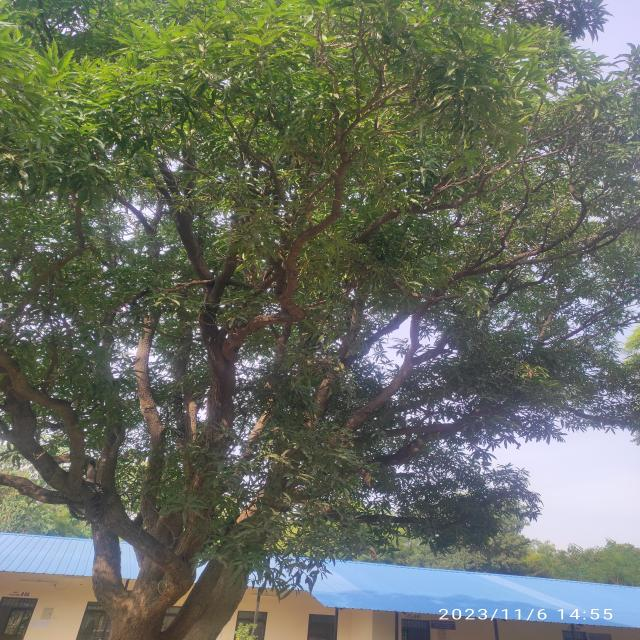Mango Tree: (18, 26, 608, 564)
